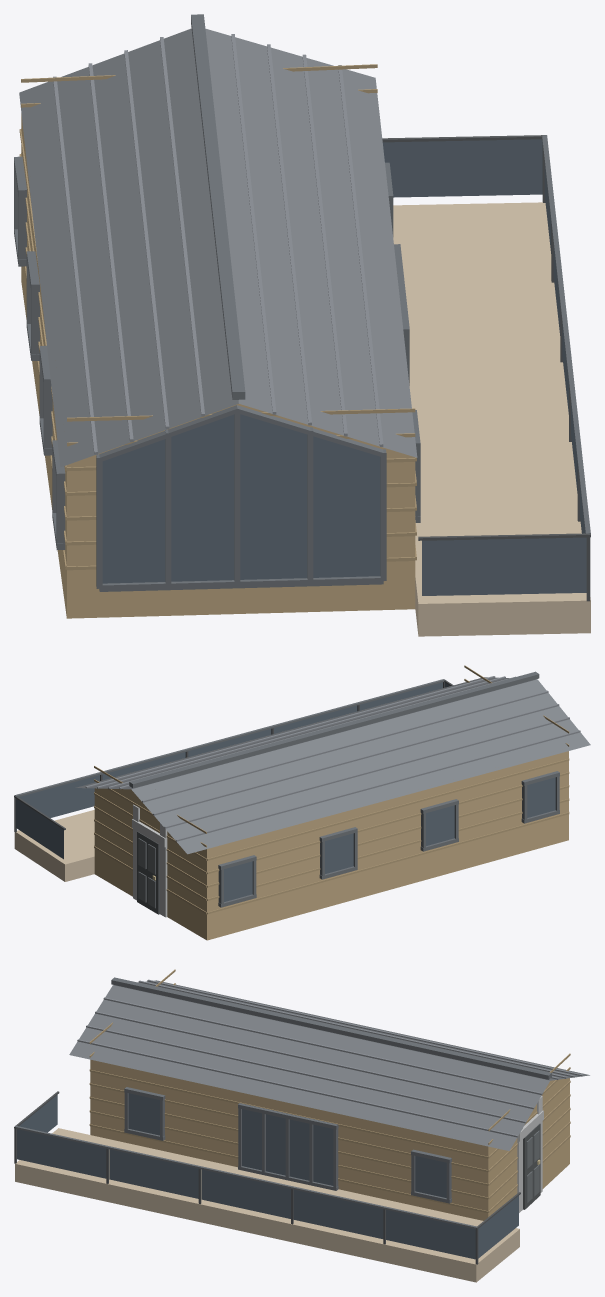
3 views of the same model, one above another, from view 1: azimuth 30°, elevation 25°; view 2: azimuth 150°, elevation 25°; view 3: azimuth 270°, elevation 25° (orthographic). The views are drawn at different scales.
Visible parts, largest first — view 1: slate, larch, window_glass_014, slate_dk, door_wood, slate_lt, window_glass_006, window_glass_007, door_wood_p, pipe; view 2: slate, door_wood, slate_dk, slate_lt, door_wood_p, larch, window_glass_005, window_glass_007, stone_band, window_glass_015, window_glass_016, window_glass_017 (+8 smaller); view 3: slate, door_wood, larch, slate_dk, slate_lt, door_wood_p, window_glass_004, window_glass_005, window_glass_001, window_glass_002, window_glass_003, window_glass_007 (+11 smaller).
Part boxes in pixels (x1,y1,x2,y2): slate: [19, 28, 417, 467]; larch: [393, 202, 590, 636]; window_glass_014: [102, 414, 380, 583]; slate_dk: [14, 14, 590, 591]; door_wood: [21, 113, 415, 618]; slate_lt: [53, 34, 383, 454]; window_glass_006: [422, 537, 586, 595]; window_glass_007: [382, 139, 542, 197]; door_wood_p: [19, 64, 416, 570]; pipe: [382, 135, 590, 601]; slate: [75, 677, 590, 854]; door_wood: [94, 751, 568, 940]; slate_dk: [15, 671, 559, 907]; slate_lt: [85, 676, 580, 841]; door_wood_p: [94, 665, 569, 914]; larch: [14, 810, 94, 881]; window_glass_005: [19, 775, 99, 817]; window_glass_007: [16, 798, 63, 859]; stone_band: [132, 804, 167, 917]; window_glass_015: [224, 861, 252, 901]; window_glass_016: [325, 833, 353, 873]; window_glass_017: [426, 805, 454, 845]; slate: [69, 980, 589, 1150]; door_wood: [90, 1059, 569, 1220]; larch: [15, 1128, 519, 1282]; slate_dk: [15, 977, 551, 1229]; slate_lt: [77, 979, 583, 1137]; door_wood_p: [89, 969, 570, 1213]; window_glass_004: [293, 1189, 383, 1238]; window_glass_005: [386, 1209, 475, 1259]; window_glass_001: [17, 1129, 106, 1178]; window_glass_002: [109, 1149, 198, 1198]; window_glass_003: [201, 1169, 290, 1218]; window_glass_007: [478, 1196, 518, 1258].
Size of the model in its own units: 12.48 by 3.68 by 14.56.
